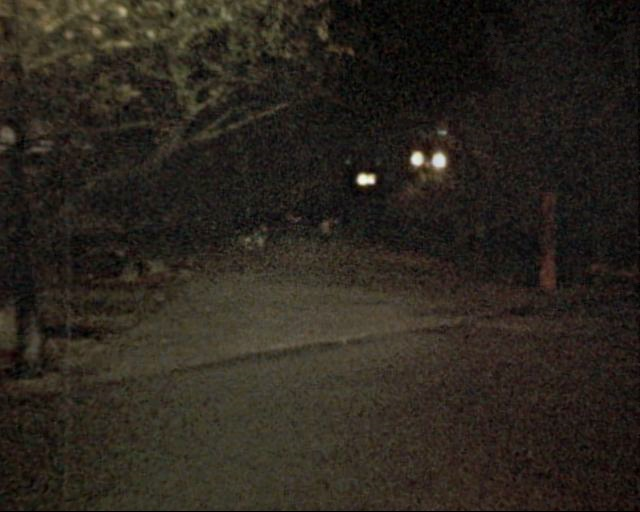person: (317, 215, 338, 265)
